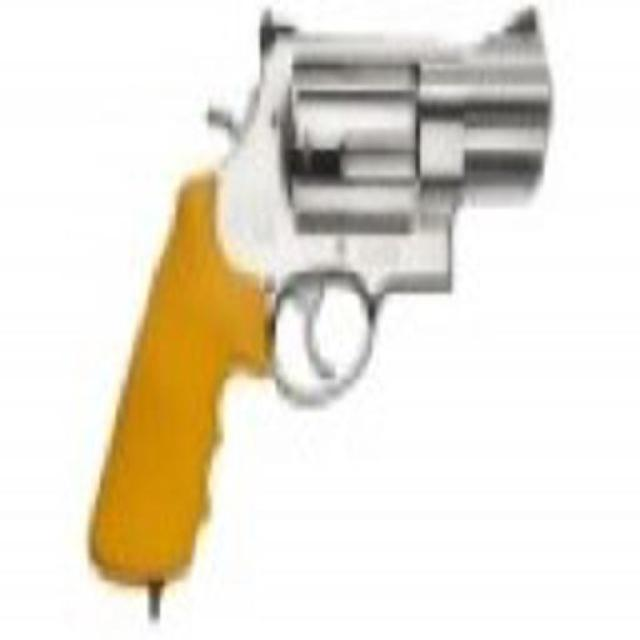pistol: (84, 15, 555, 575)
